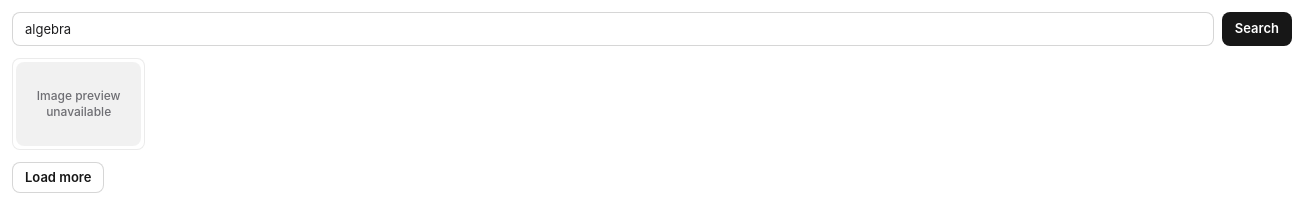
it: appends page two and deduplicates source:id
Click the button "Load more" at point(58, 177), box [12,162,104,193]
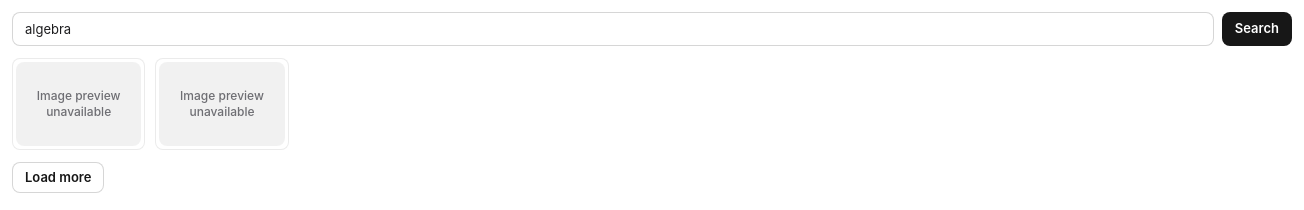
Check: the button with aria-label "Fox" is shown, box [16,62,141,146]
Check: the button with aria-label "River" is shown, box [159,62,285,146]
